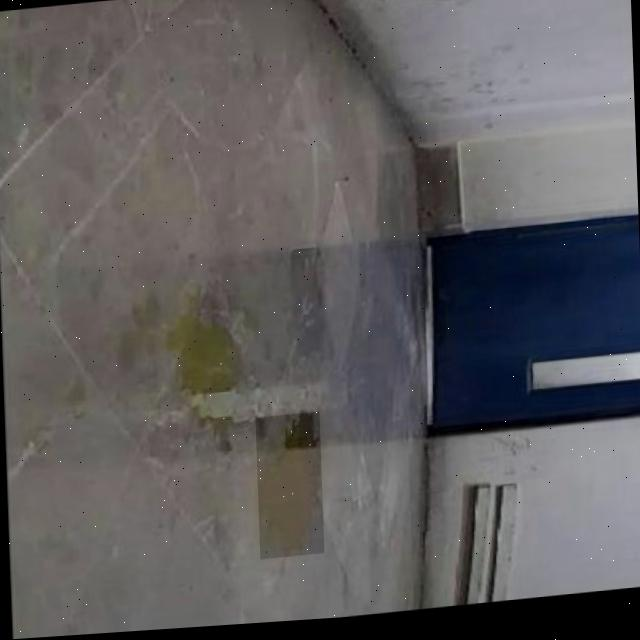spillage: (165, 297, 240, 458), (257, 416, 320, 560)
